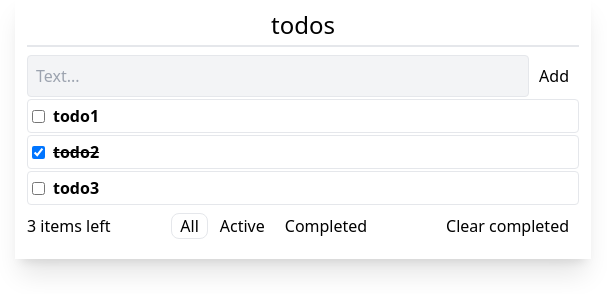
Test: App component › должен по нажатию на Active
Click the button "Active": {"x": 242, "y": 226} [212, 213, 273, 239]
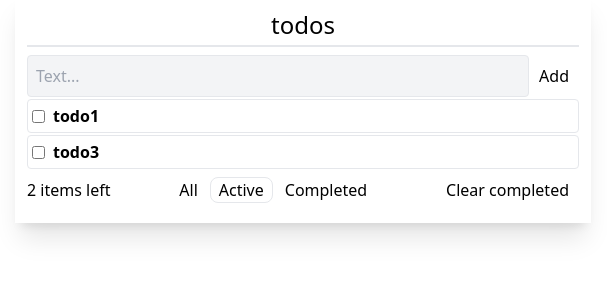
Expected: the text "2 items left" is shown, [27, 178, 110, 202]
Expected: the text "todo2" is gone
Expected: the number of elements with class "todo" is 2, [27, 99, 579, 133]; [27, 135, 579, 169]
